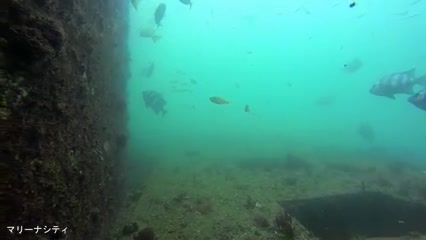smallfish: (352, 61, 420, 96), (205, 92, 234, 108)
